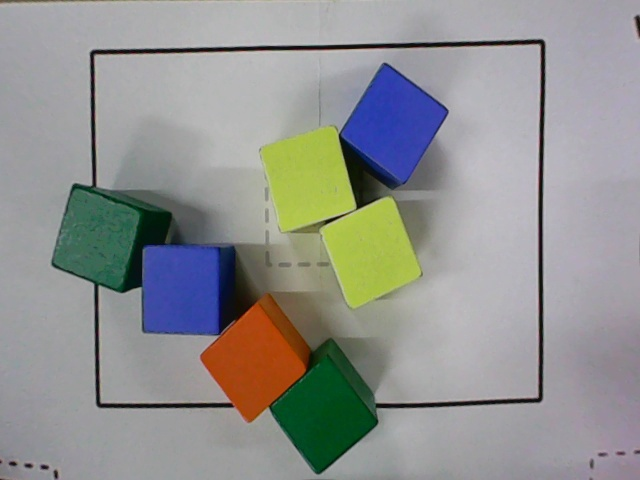upside of small cube: (268, 356, 379, 476), (199, 302, 308, 424), (340, 62, 448, 182), (317, 195, 423, 310), (257, 124, 357, 234), (51, 185, 142, 291), (143, 247, 220, 334)
